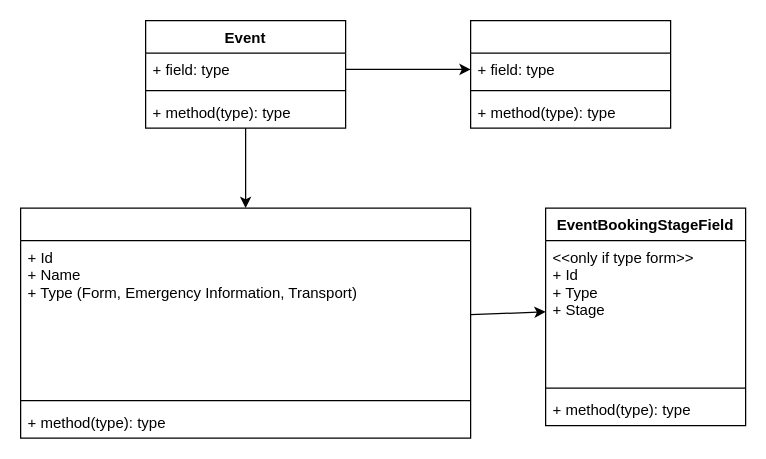
Some shapes in this 766 by 459 pixel diagram are drawn without their labels. Here are the shapes that lost their labels. From the top down, the box of each, then its label:
(469, 19, 671, 128): EventBookingPhase
(19, 207, 471, 438): EventBookingStage
